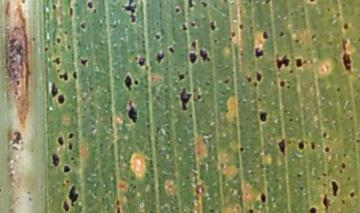tarspot: (119, 1, 141, 25), (176, 86, 193, 115), (340, 52, 355, 75), (273, 53, 291, 70), (125, 105, 141, 124), (197, 47, 211, 65), (328, 179, 341, 198), (68, 184, 79, 206), (122, 72, 134, 92), (276, 138, 289, 155), (252, 44, 265, 60), (256, 109, 270, 123), (154, 51, 167, 65), (50, 152, 61, 168), (57, 71, 70, 84), (293, 55, 305, 69), (49, 82, 59, 98), (321, 195, 331, 211), (257, 191, 269, 204), (28, 35, 40, 47), (296, 139, 307, 152), (137, 55, 148, 68), (255, 68, 264, 83), (78, 56, 90, 67), (259, 30, 271, 41), (77, 20, 89, 31), (188, 50, 197, 64), (309, 139, 318, 153), (67, 6, 76, 20), (322, 144, 333, 155), (207, 21, 218, 32), (221, 76, 232, 87), (333, 84, 344, 95), (189, 39, 200, 50), (62, 163, 72, 175), (341, 20, 351, 32), (236, 22, 246, 34), (297, 183, 307, 195), (57, 93, 66, 106), (62, 197, 69, 213), (55, 135, 65, 146), (51, 56, 62, 66), (175, 72, 185, 83), (179, 22, 189, 33), (243, 74, 254, 84), (199, 1, 210, 11), (166, 44, 176, 55), (307, 204, 319, 213), (237, 143, 246, 155), (277, 78, 286, 90), (71, 69, 79, 82), (152, 33, 165, 41), (321, 129, 329, 142), (50, 1, 58, 14), (195, 91, 203, 104), (85, 1, 95, 11), (204, 79, 213, 90), (207, 204, 218, 213), (173, 6, 182, 16), (187, 1, 197, 10), (277, 30, 286, 40), (41, 45, 51, 54), (320, 170, 329, 180), (112, 198, 123, 206), (339, 195, 346, 207), (54, 36, 63, 45), (66, 131, 76, 139), (133, 78, 141, 88), (348, 190, 356, 200), (66, 142, 74, 151), (339, 161, 347, 170), (246, 207, 257, 213), (354, 136, 360, 147), (296, 172, 304, 180), (66, 43, 72, 53)
